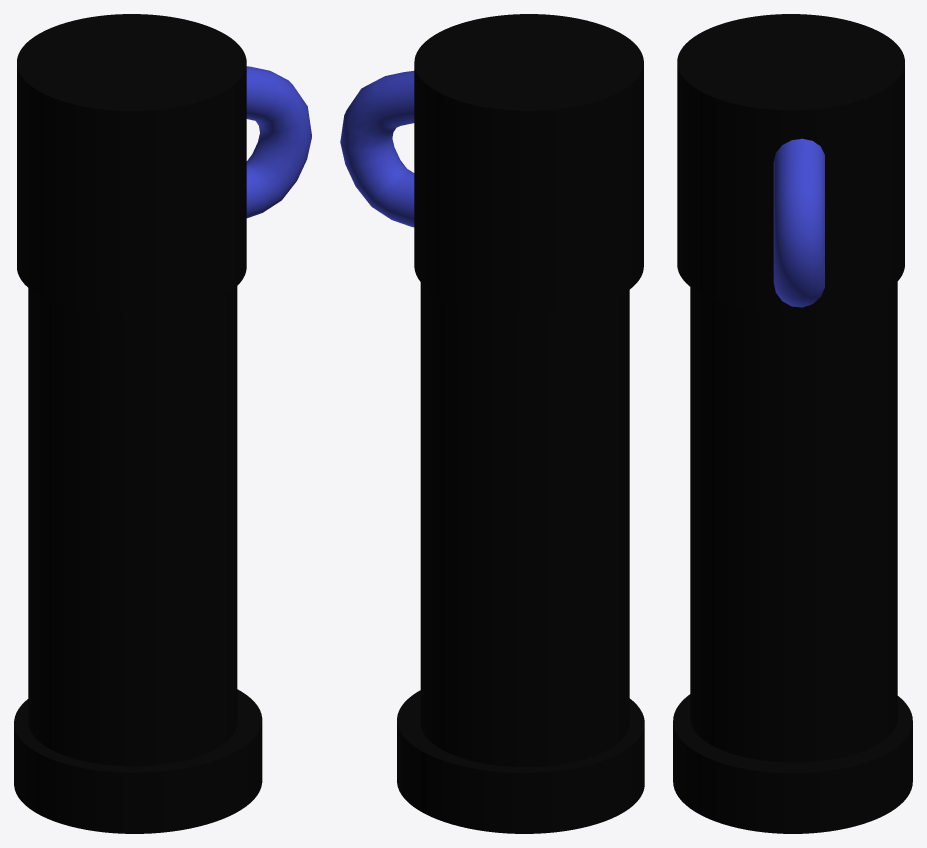
Rendered from thermos.fbx.
3 renders of one model, left to right at view 1: azimuth 30°, elevation 25°; view 2: azimuth 150°, elevation 25°; view 3: azimuth 270°, elevation 25°, orthographic.
Visible parts, largest first — view 1: root (×4); view 2: root (×4); view 3: root (×4).
Part boxes in pixels (x1,y1,x2,y2): root (×4): (14, 14, 311, 833); root (×4): (340, 14, 644, 833); root (×4): (673, 14, 912, 833).
Size of the model in its own units: 0.1476 by 0.3609 by 0.1096.
Materials: 3 (1 with a texture image).
